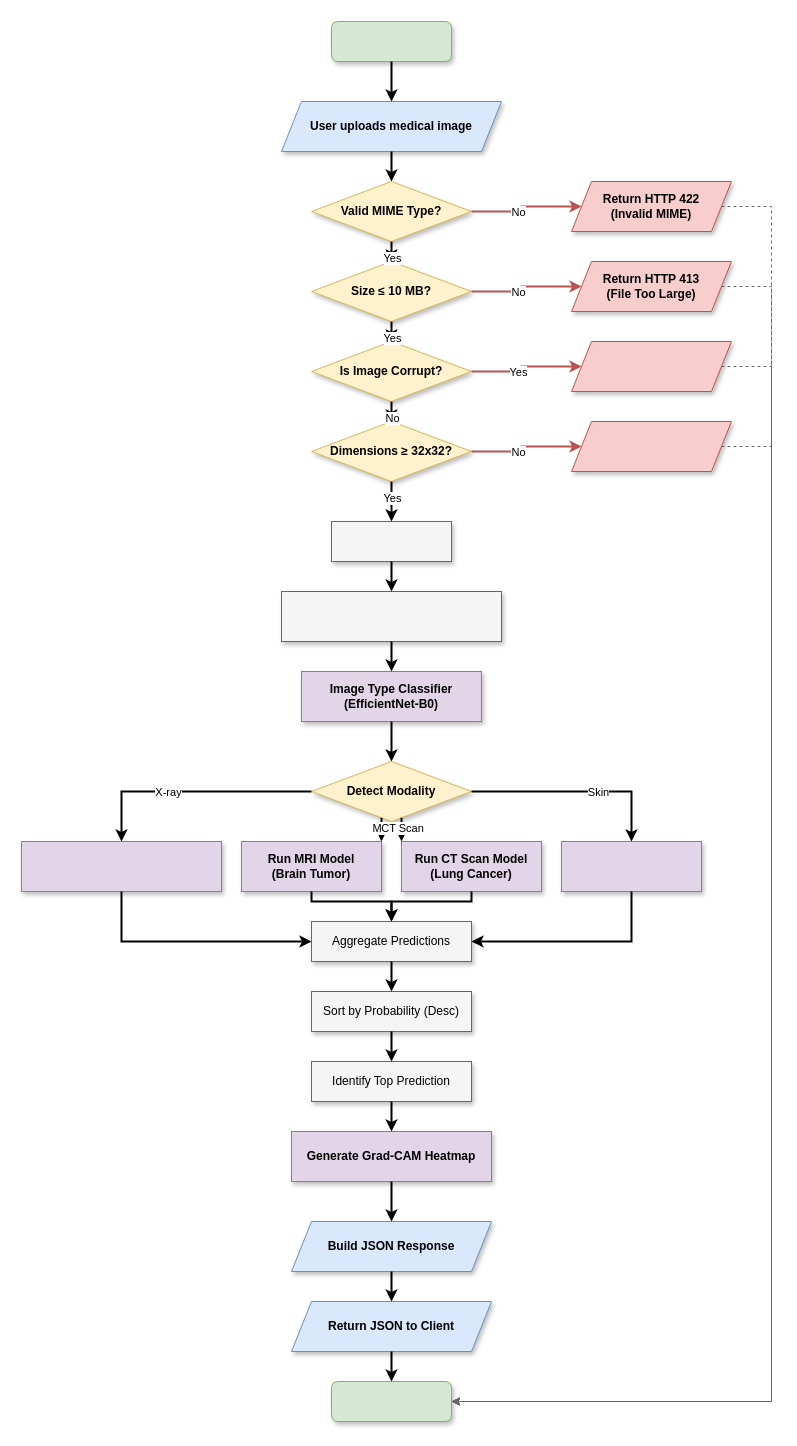
Some shapes in this 797 by 1446 pixel diagram are drawn without their labels. Each missing label, with the centre of its shape:
Convert to RGB: the point at 392,542
End: the point at 392,1402
Preprocess (Resize → CenterCrop → Normalize): the point at 392,617
Return HTTP 422 (Corrupt Image): the point at 652,367
Return HTTP 422 (Invalid Dimensions): the point at 652,447
Run Skin Model (Skin Lesion): the point at 632,867
Run X-ray Models (Pneumonia, COVID, Cardiomegaly): the point at 122,867
Start: the point at 392,42
